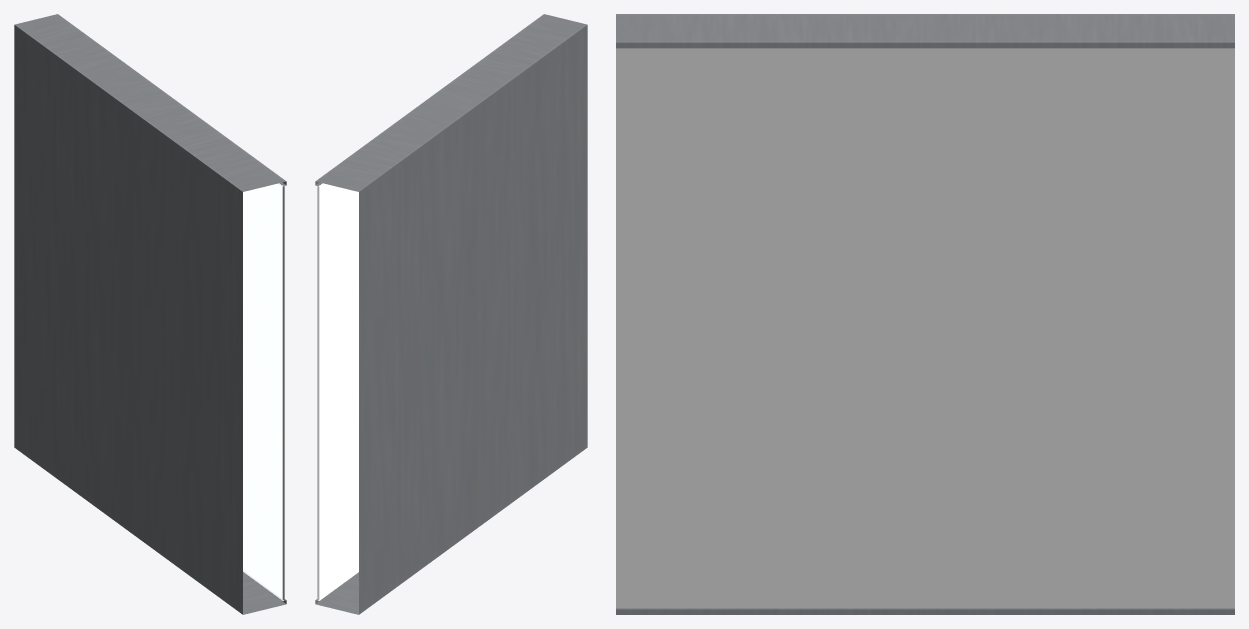
File: station pointer center.fbx
The picture shows the model from 3 angles, left to right: view 1: azimuth 30°, elevation 25°; view 2: azimuth 150°, elevation 25°; view 3: azimuth 270°, elevation 25°; orthographic projection. The views are drawn at different scales.
Parts seen in each view (by area): view 1: station pointer center, station pointer center info; view 2: station pointer center, station pointer center info; view 3: station pointer center info, station pointer center.
Boxes of the visible parts, x1,y1,x2,y2 form: station pointer center: (14, 14, 286, 614); station pointer center info: (282, 186, 284, 600); station pointer center: (315, 14, 587, 614); station pointer center info: (317, 186, 319, 600); station pointer center info: (616, 48, 1234, 607); station pointer center: (616, 14, 1234, 614).
Size of the model in its own units: 100 by 11 by 102.
